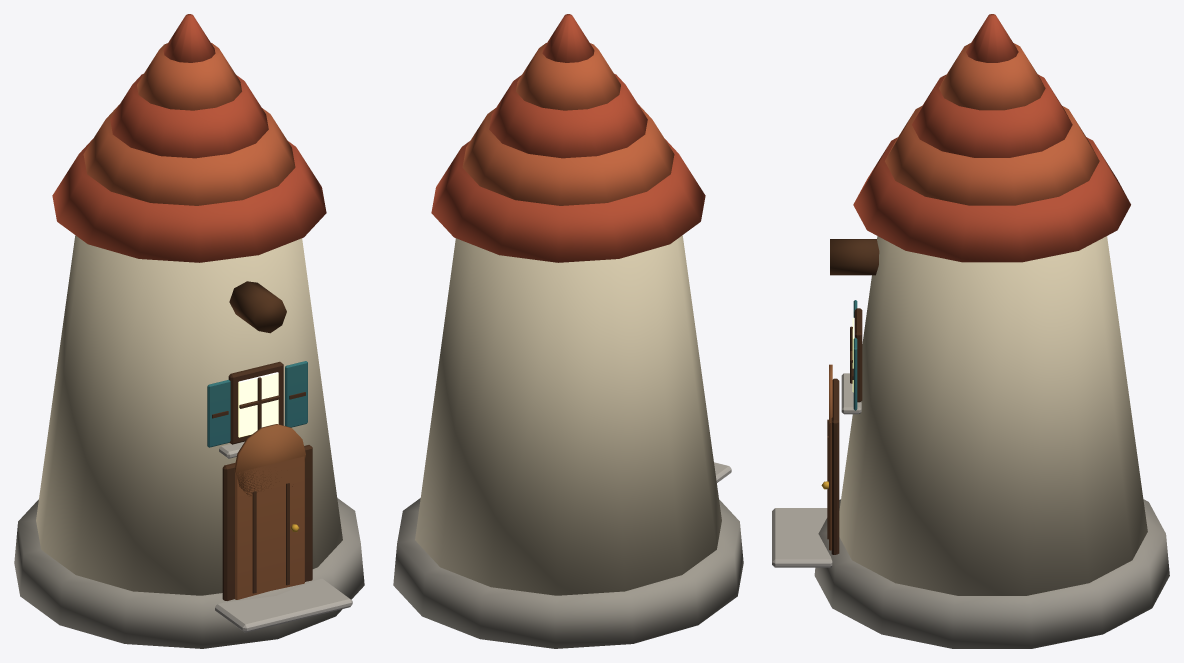
The model's file is windmill.glb.
3 views of the same model, side by side, from view 1: azimuth 30°, elevation 25°; view 2: azimuth 150°, elevation 25°; view 3: azimuth 270°, elevation 25° (orthographic).
Parts seen in each view (by area): view 1: windmill; view 2: windmill; view 3: windmill.
Part boxes in pixels (x1,y1,x2,y2): windmill: (14,14,364,648); windmill: (393,14,743,648); windmill: (772,14,1169,648).
Size of the model in its own units: 4.48 by 8.05 by 5.15.
